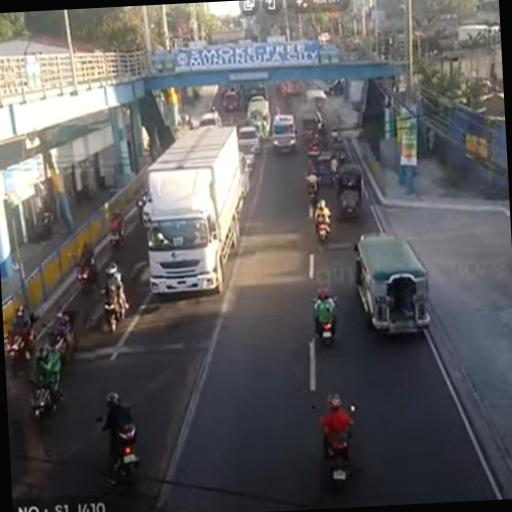Police car: (270, 112, 299, 155)
